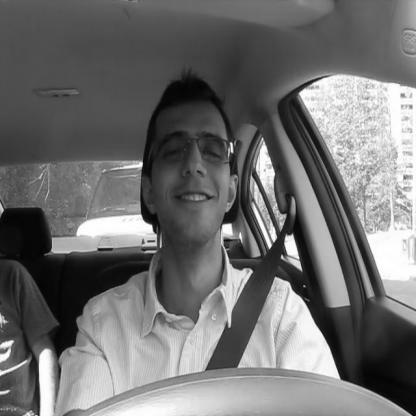seatbelt: (132, 67, 299, 393)
